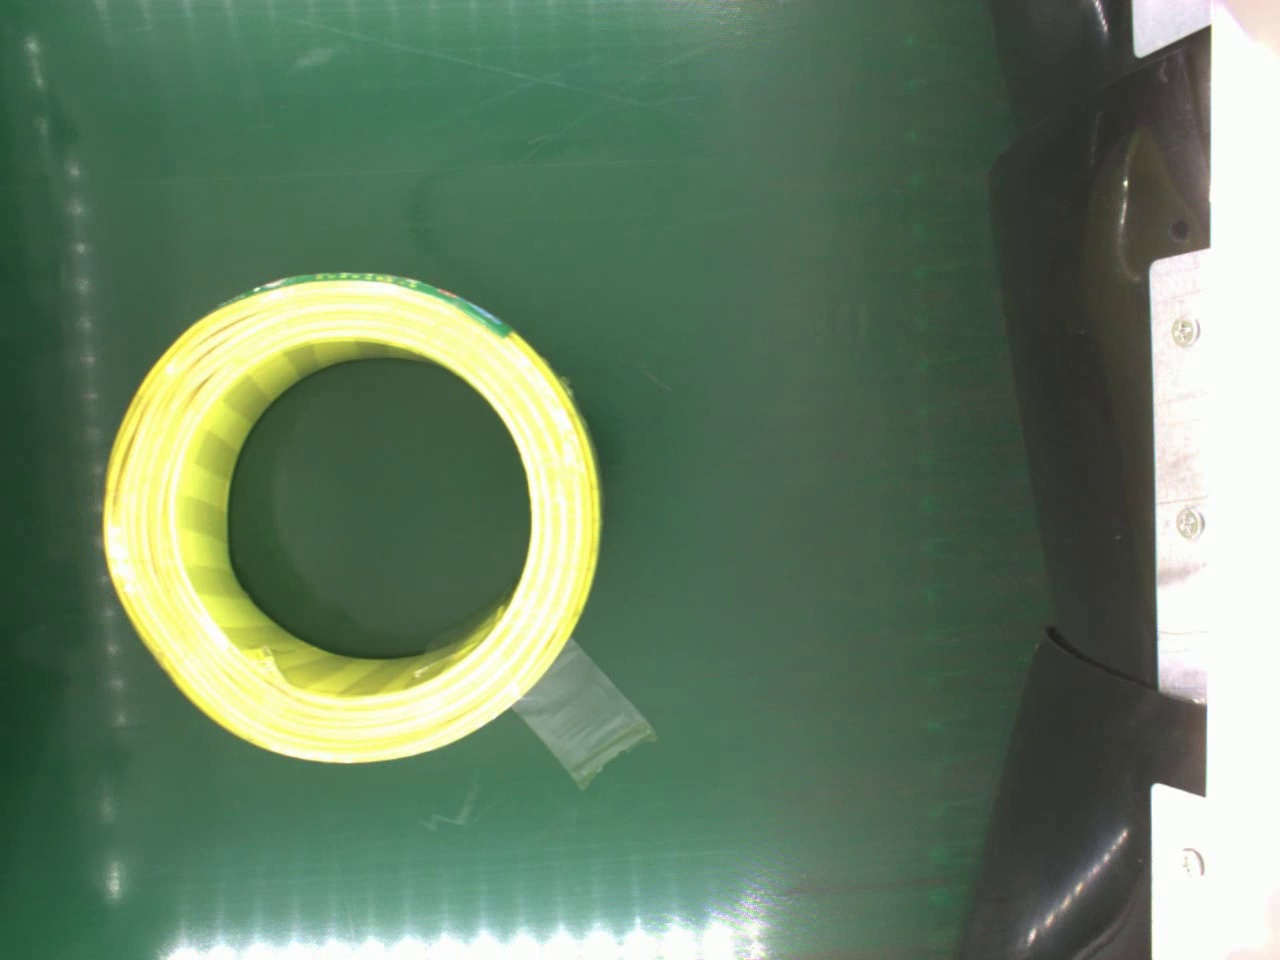yellow: (103, 261, 609, 775)
